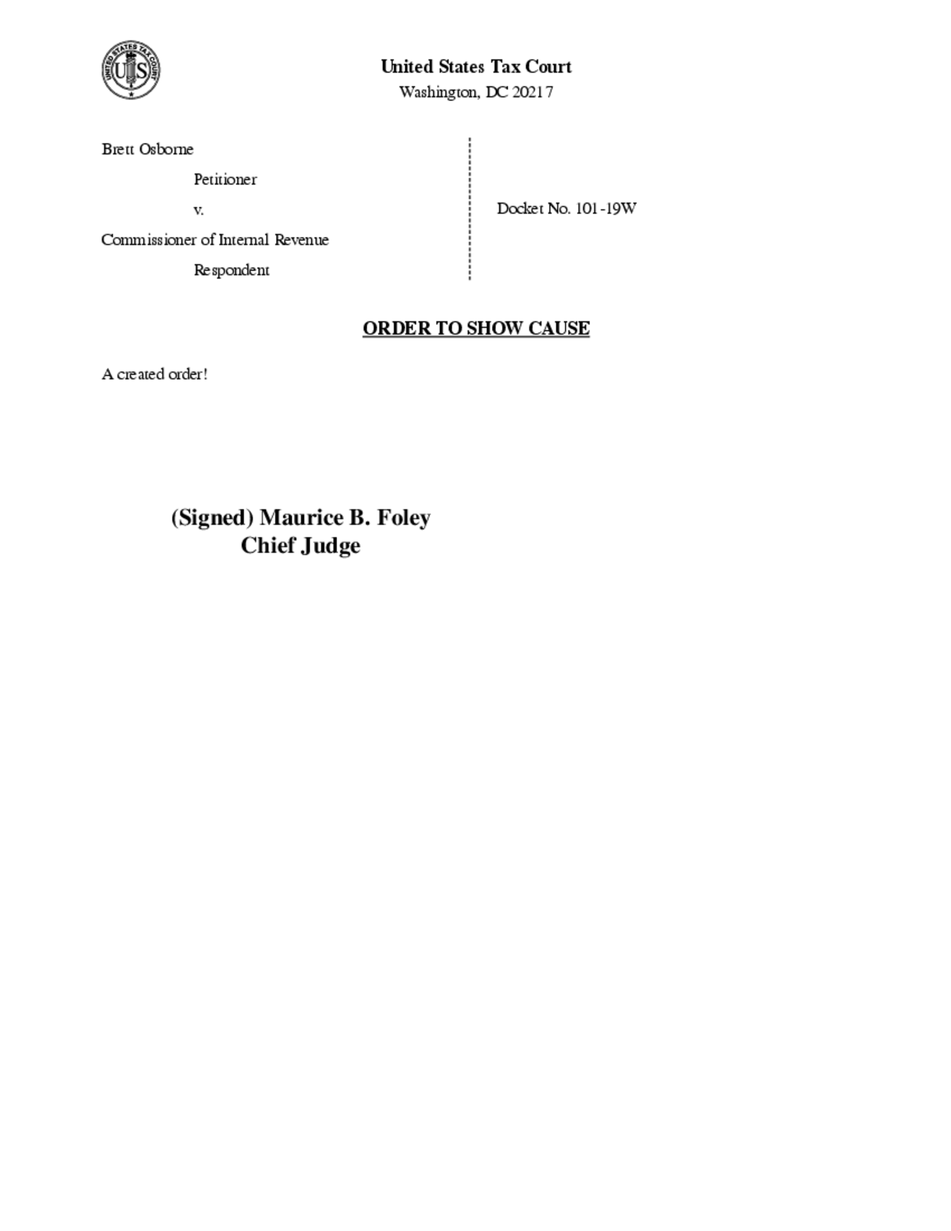signature: (172, 508, 431, 558)
